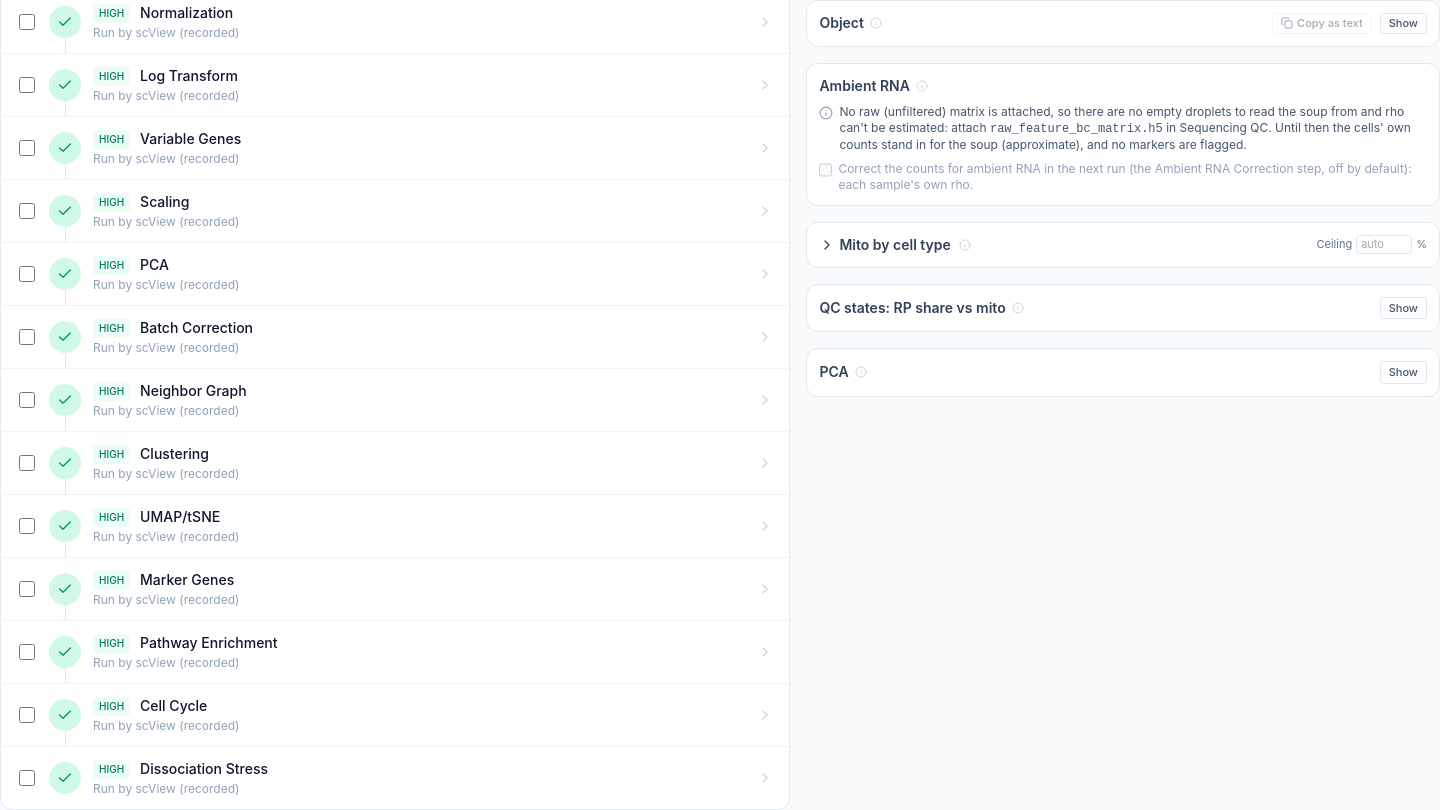
DataAssessmentPanel: the Leiden optimisation setting › is not used with Louvain
This screenshot has width=1440, height=810.
(page scrolled)
Click the text "Clustering".
click(174, 454)  # box x1=140 y1=444 x2=209 y2=464
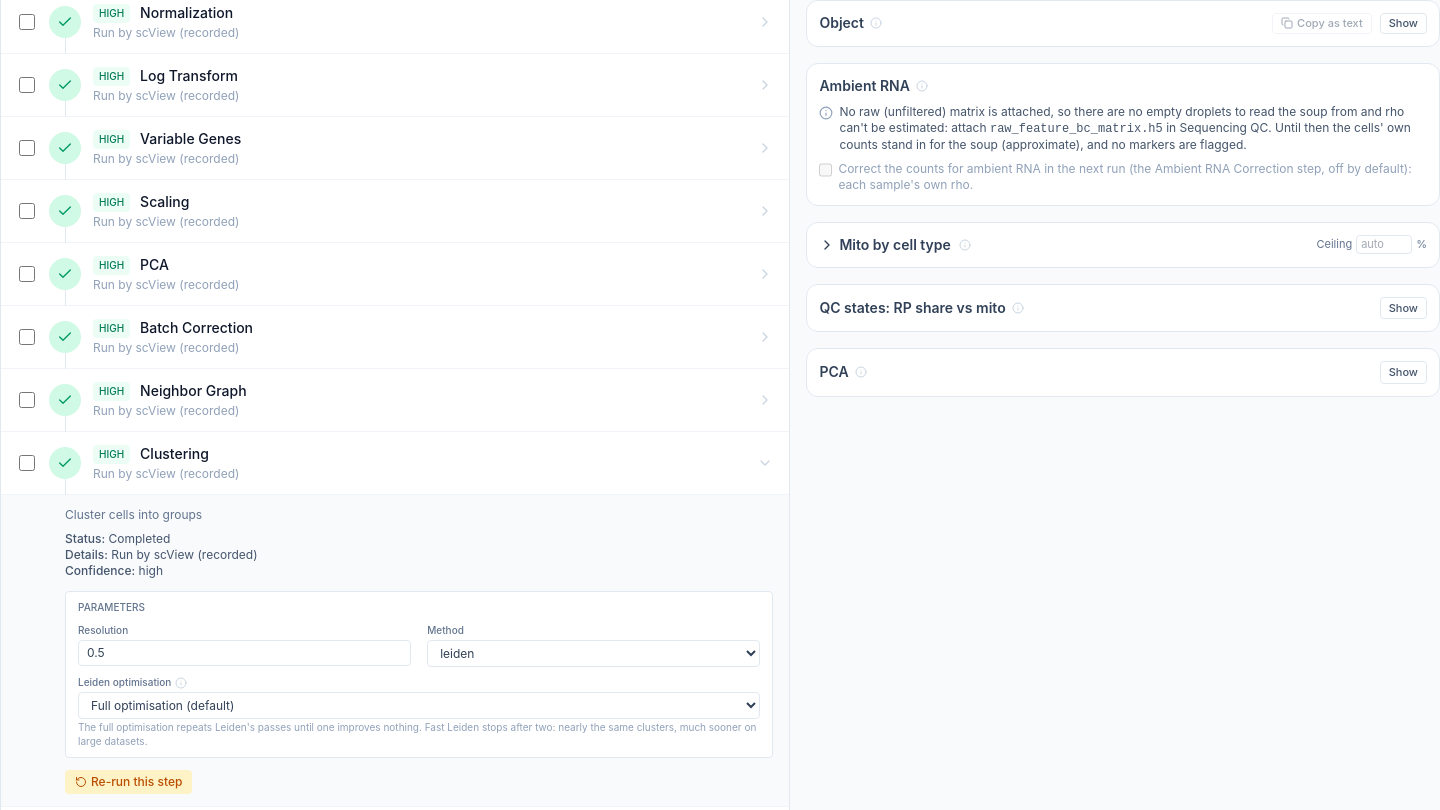
Select "louvain" in the 1st dropdown showing "leiden" at (594, 654), box x1=427 y1=640 x2=760 y2=667
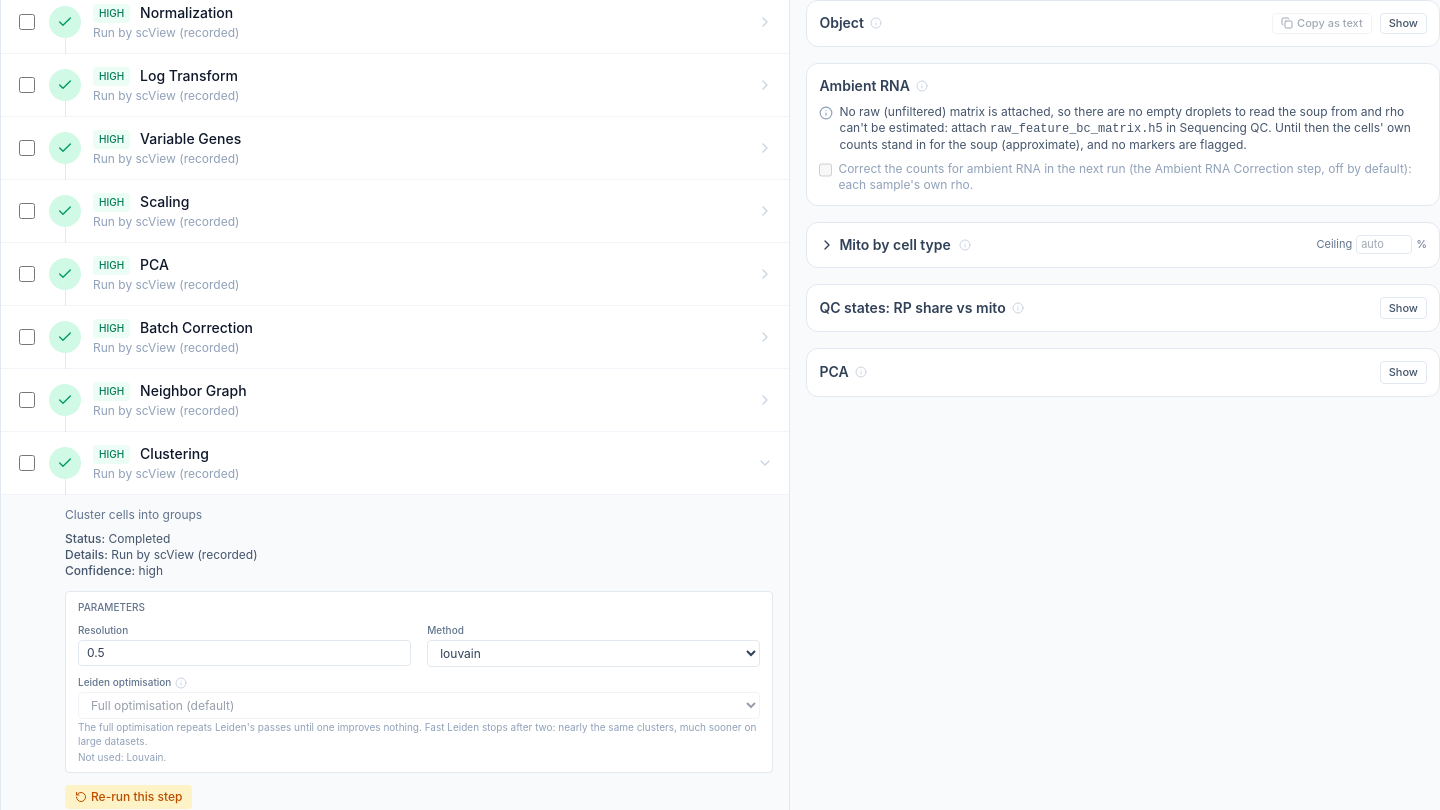
Check: the dropdown showing "Full optimisation (default)" below "Leiden optimisation" is disabled, box x1=78 y1=692 x2=760 y2=719
Check: the text "Not used: Louvain." is shown, box x1=78 y1=750 x2=166 y2=762
